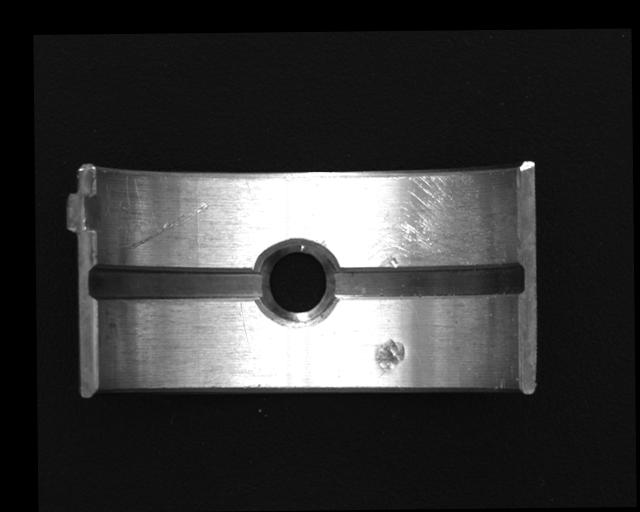bruise: (374, 336, 406, 375)
gap: (327, 259, 524, 300), (89, 264, 264, 302)
hole: (256, 241, 336, 326)
nick: (123, 200, 208, 253)
scratch: (331, 170, 511, 267)
